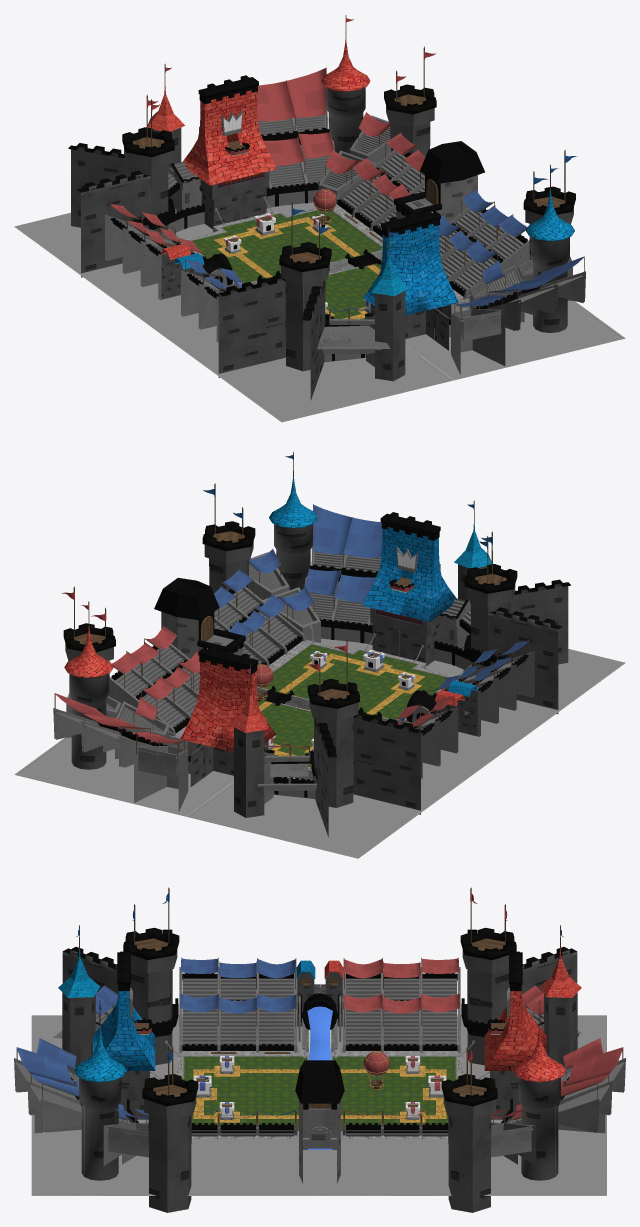
File: enviroment_clash_royal.glb
3 renders of one model, top to bottom at view 1: azimuth 30°, elevation 25°; view 2: azimuth 150°, elevation 25°; view 3: azimuth 270°, elevation 25°, orthographic. The views are drawn at different scales.
Parts seen in each view (by area): view 1: MAPA3, MAPA2, MAPA1; view 2: MAPA3, MAPA2, MAPA1; view 3: MAPA3, MAPA2, MAPA1.
Boxes of the visible parts, bbox=[...] form: MAPA3: bbox=[68, 15, 577, 400]; MAPA2: bbox=[105, 67, 585, 374]; MAPA1: bbox=[14, 188, 625, 422]; MAPA3: bbox=[61, 451, 570, 837]; MAPA2: bbox=[53, 504, 534, 811]; MAPA1: bbox=[14, 625, 625, 858]; MAPA3: bbox=[58, 887, 581, 1212]; MAPA2: bbox=[14, 951, 625, 1183]; MAPA1: bbox=[31, 1006, 606, 1195].
Bounding box in the file's own units: 3491 × 1644 × 4784.
3 materials, 3 textured.
